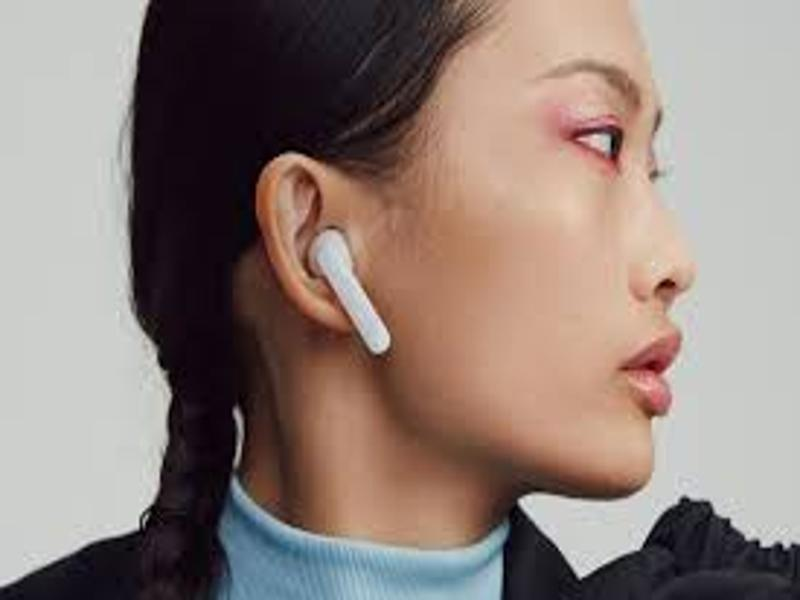headphone: (305, 223, 397, 357)
